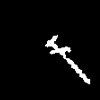double_crochet: (45, 35, 89, 83)
